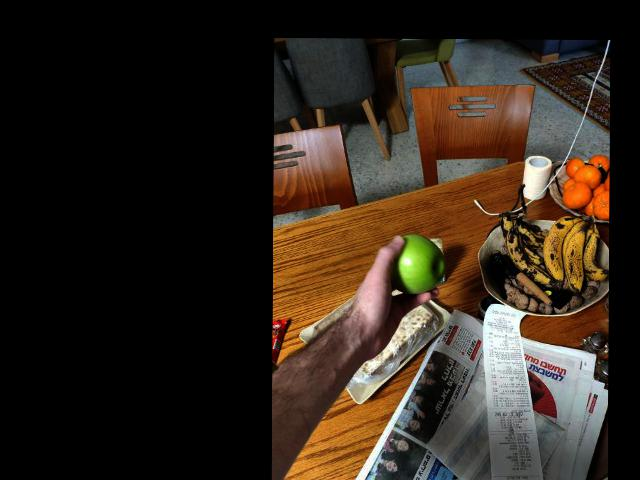apple: (380, 227, 445, 299)
